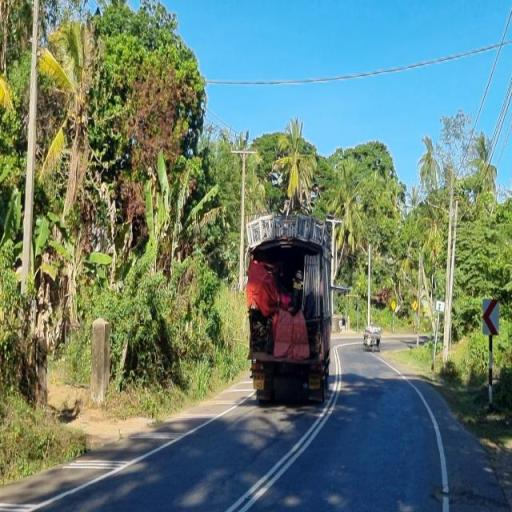double_white_line: (220, 345, 342, 512)
